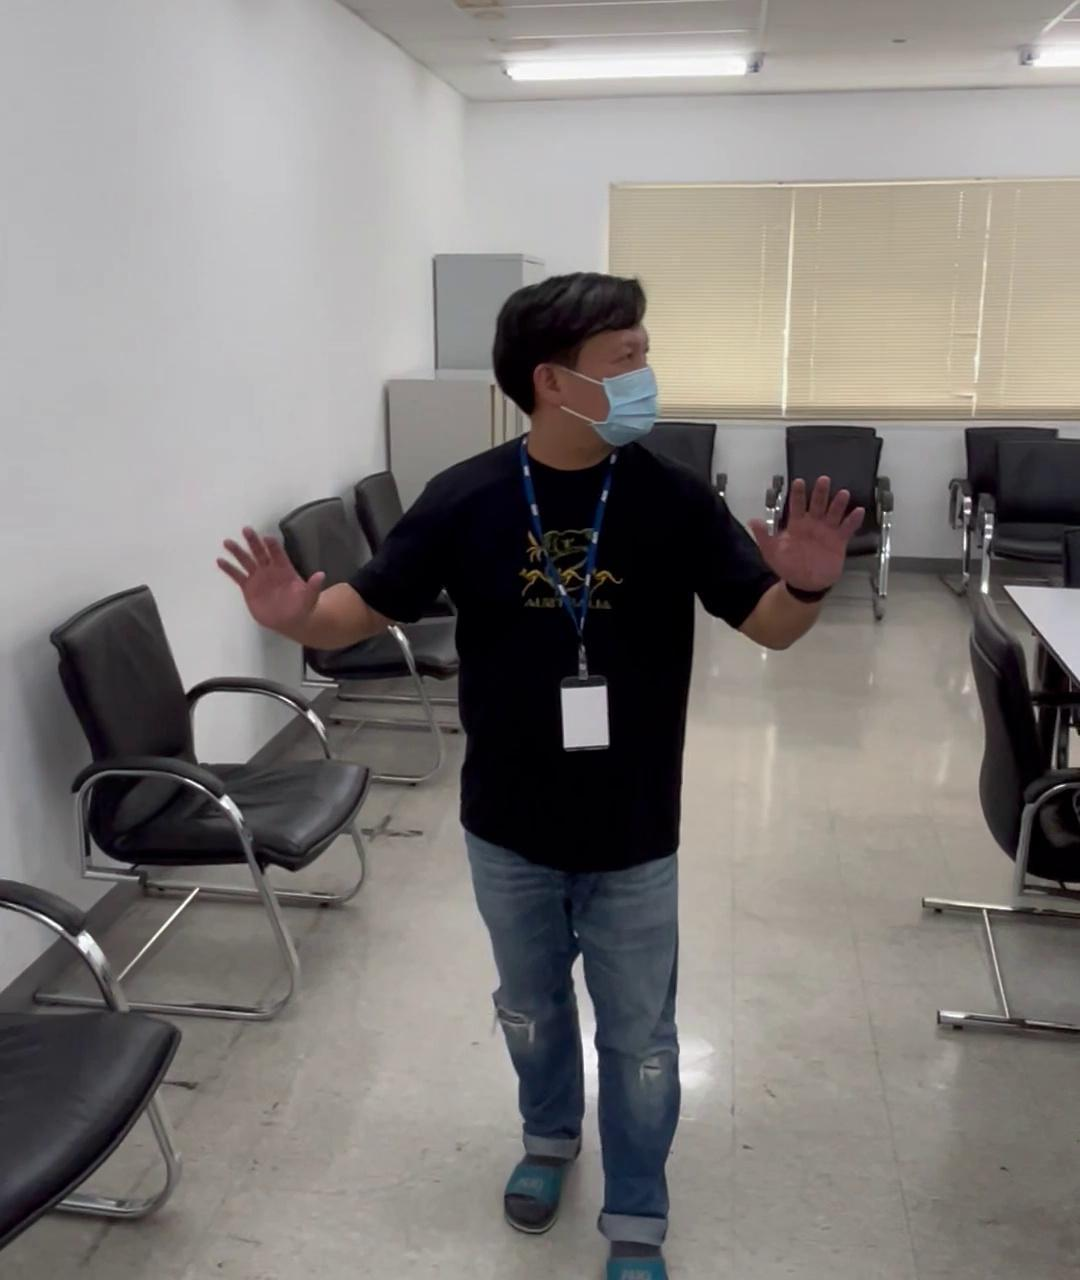No-gloves: (214, 514, 333, 648), (746, 468, 862, 592)
